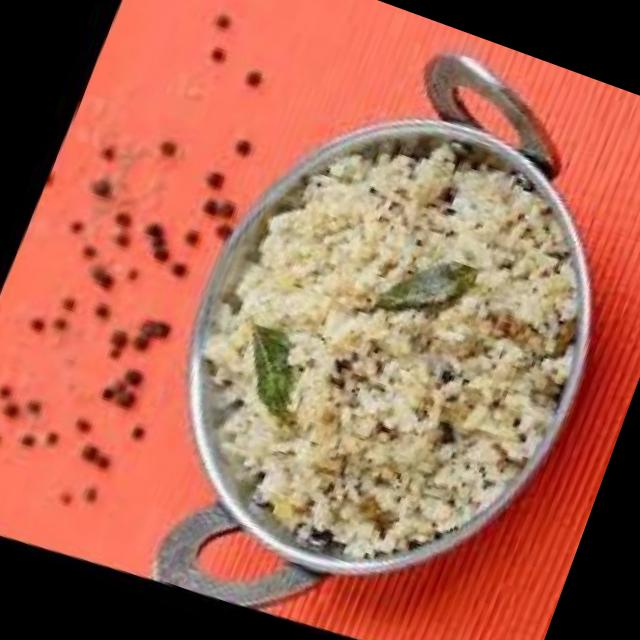poha: (134, 79, 638, 632)
